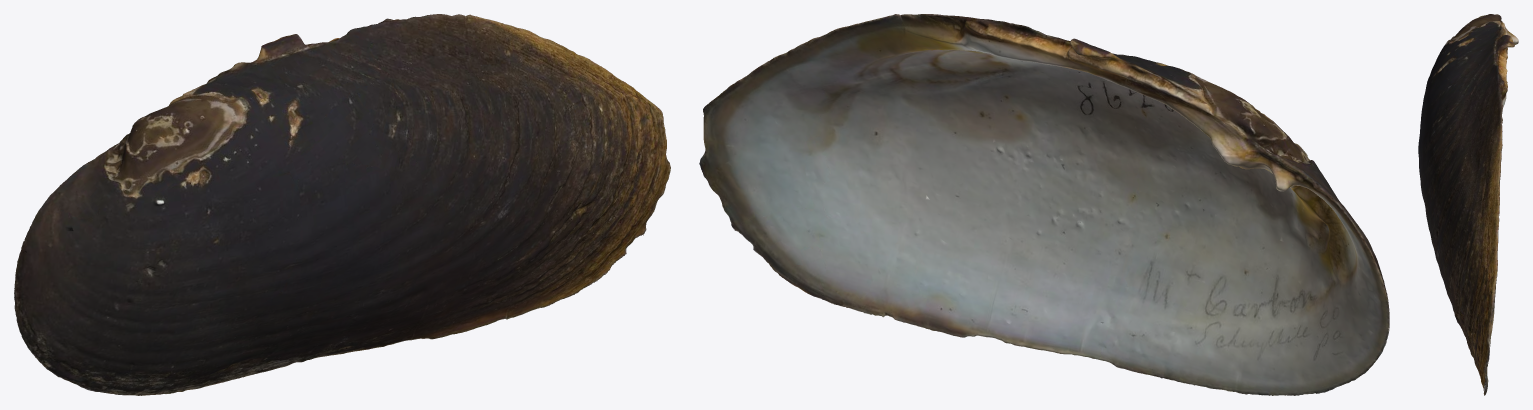
3 views of the same model, side by side, from view 1: azimuth 30°, elevation 25°; view 2: azimuth 150°, elevation 25°; view 3: azimuth 270°, elevation 25° (orthographic). The views are drawn at different scales.
Parts seen in each view (by area): view 1: orientacao; view 2: orientacao; view 3: orientacao.
Part boxes in pixels (box(x1,y1,x2,y2)): orientacao: box(14, 14, 670, 395); orientacao: box(699, 14, 1389, 395); orientacao: box(1418, 14, 1518, 395).
Size of the model in its own units: 4915 by 2321 by 829.
1 material, 1 textured.
